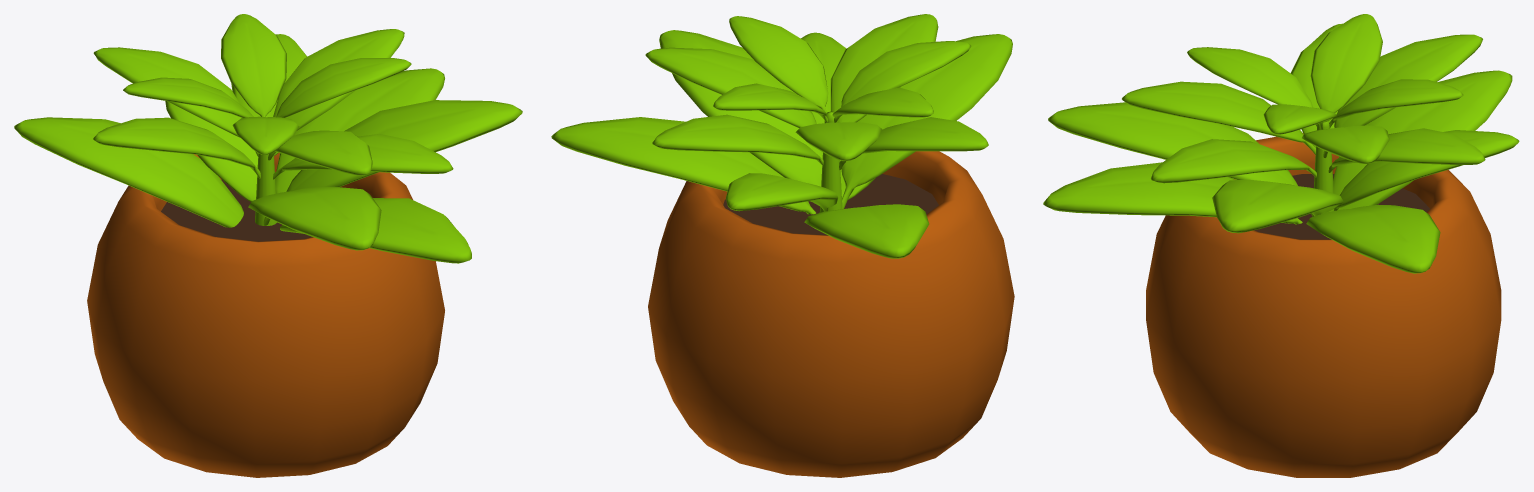
File: SM_succulent.fbx
3 views of the same model, side by side, from view 1: azimuth 30°, elevation 25°; view 2: azimuth 150°, elevation 25°; view 3: azimuth 270°, elevation 25° (orthographic). The views are drawn at different scales.
Visible parts, largest first — view 1: SM_succulent; view 2: SM_succulent; view 3: SM_succulent.
Part boxes in pixels (<box>): SM_succulent: <box>14,14,522,477</box>; SM_succulent: <box>551,14,1014,477</box>; SM_succulent: <box>1043,14,1519,477</box>.
Bounding box in the file's own units: 24.57 × 21.67 × 25.91.
Materials: 1 (1 with a texture image).
